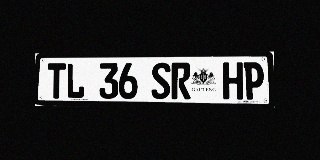3: (99, 63, 118, 99)
6: (119, 63, 138, 99)
H: (223, 62, 243, 100)
L: (66, 63, 85, 99)
P: (244, 62, 264, 100)
R: (171, 62, 191, 99)
S: (151, 63, 170, 99)
T: (47, 63, 66, 99)
